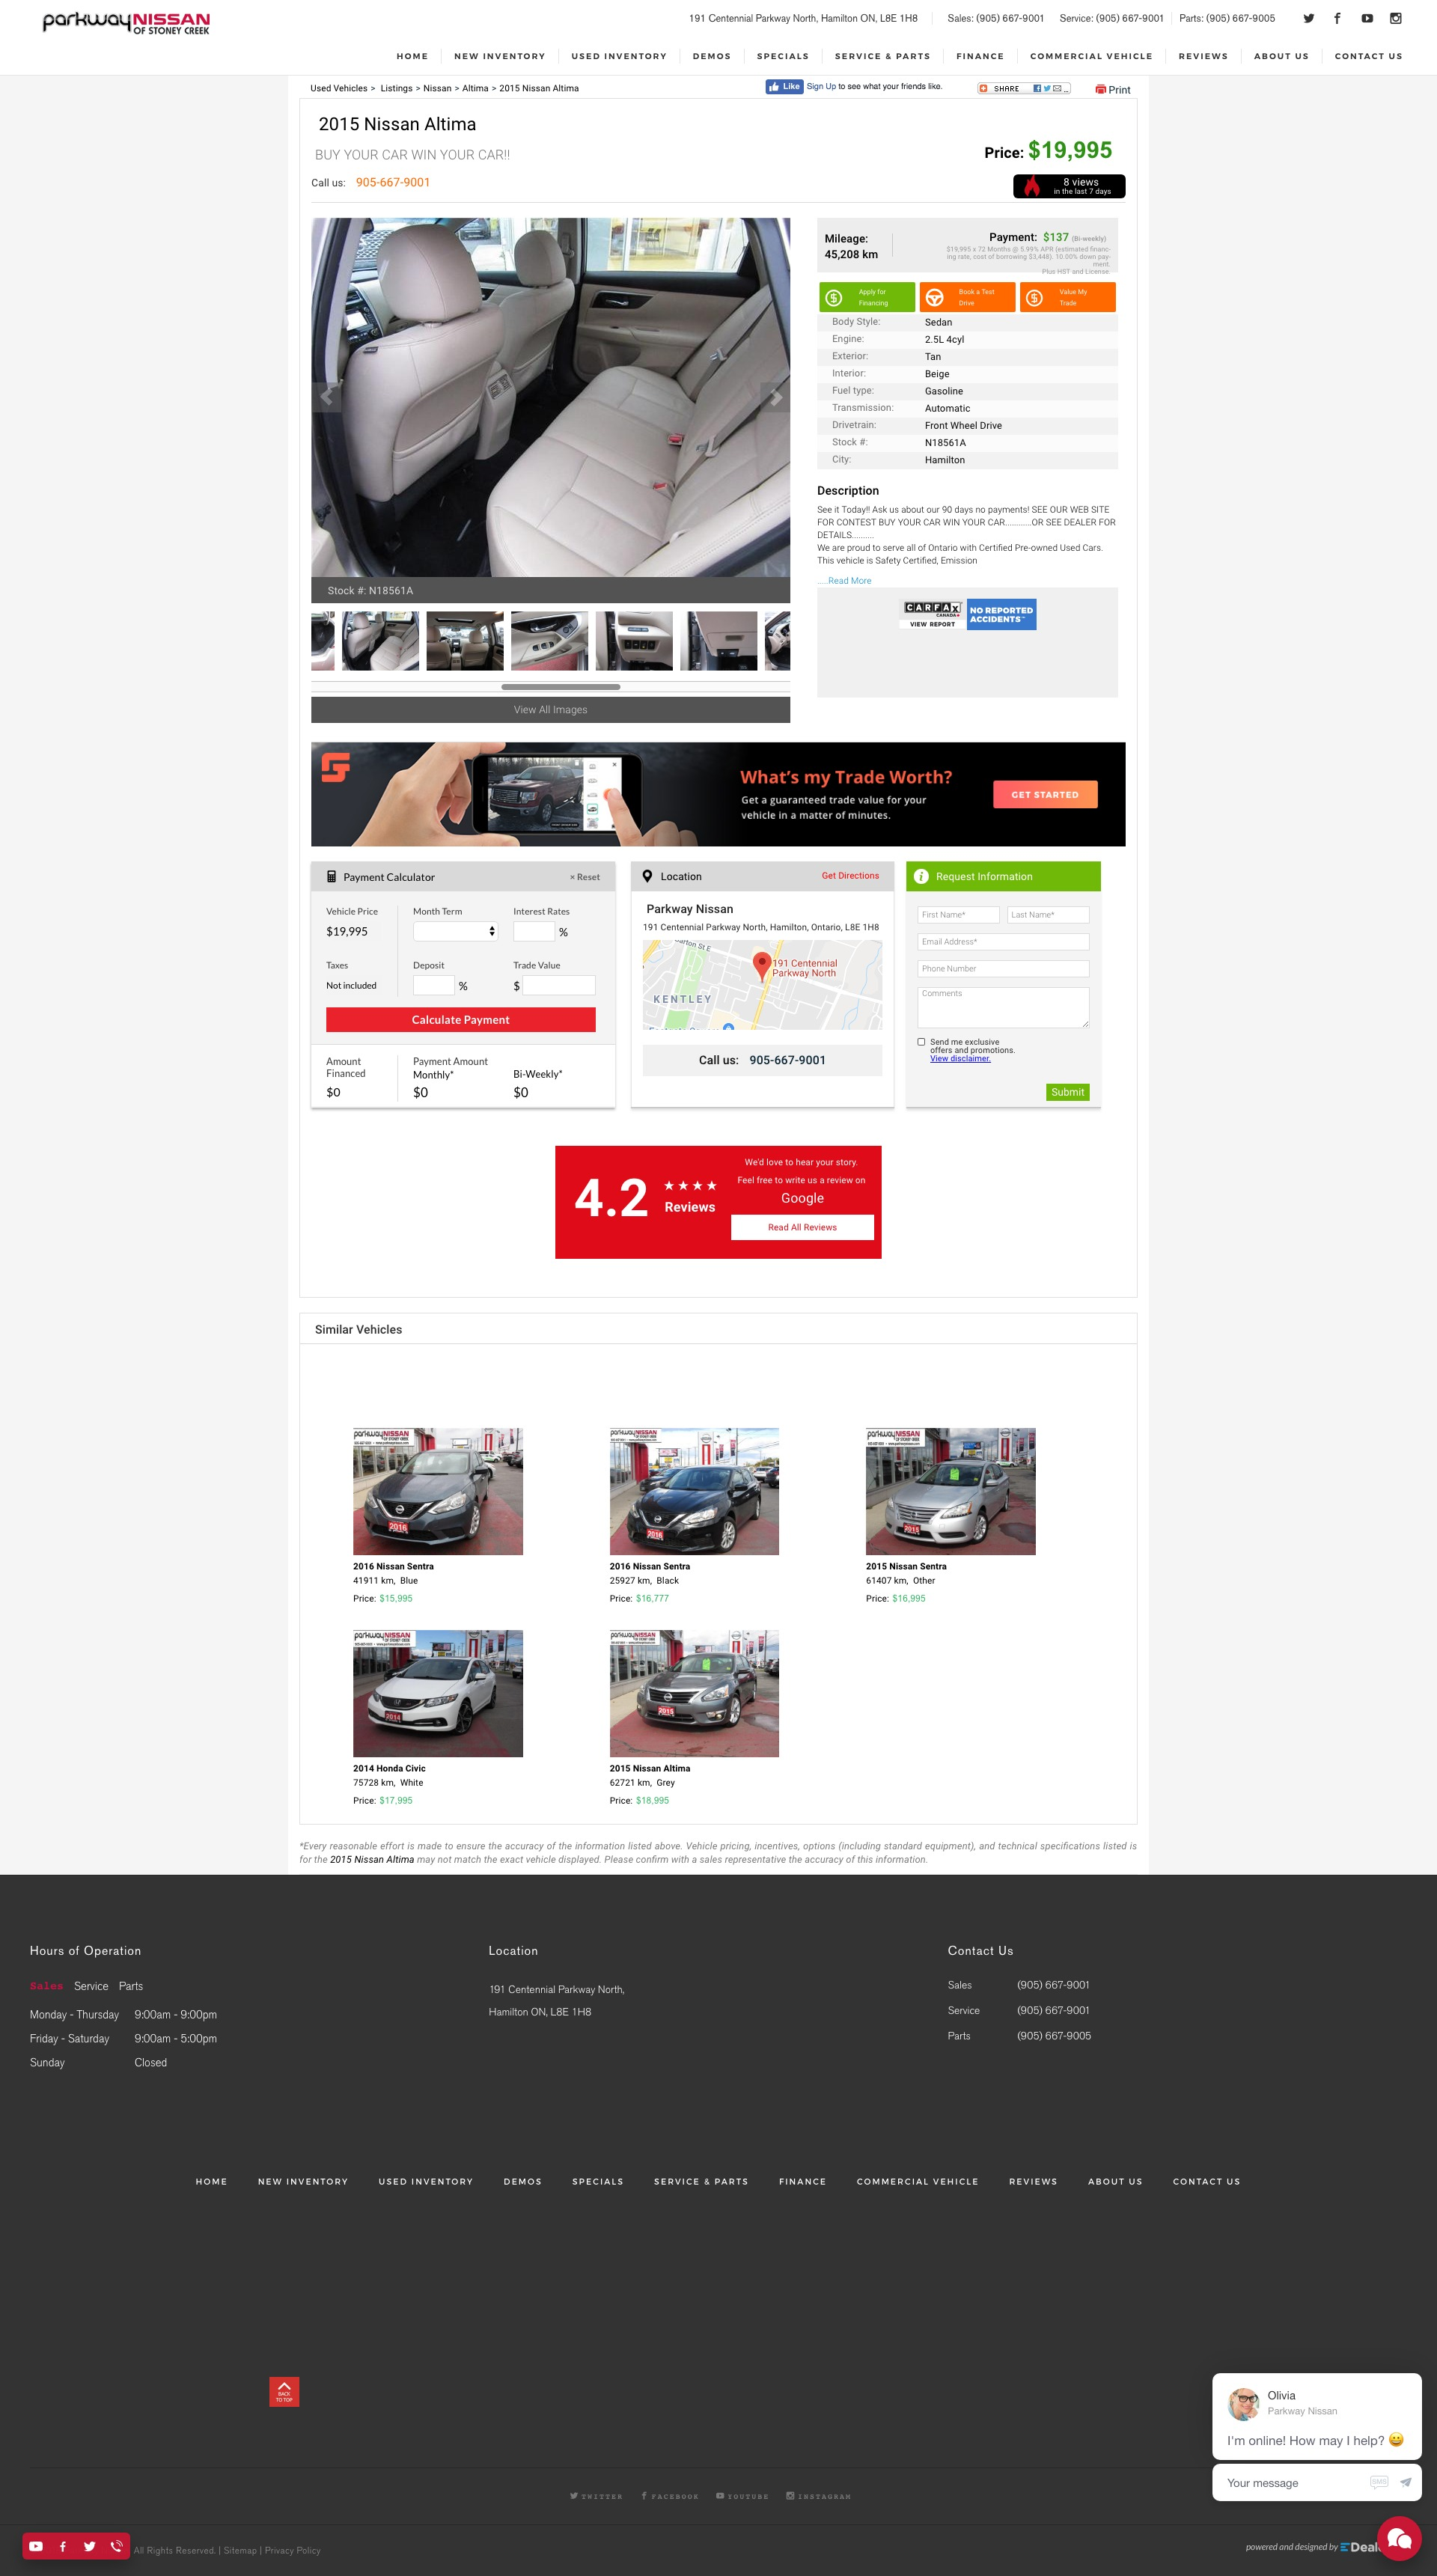car: (770, 389, 784, 407)
